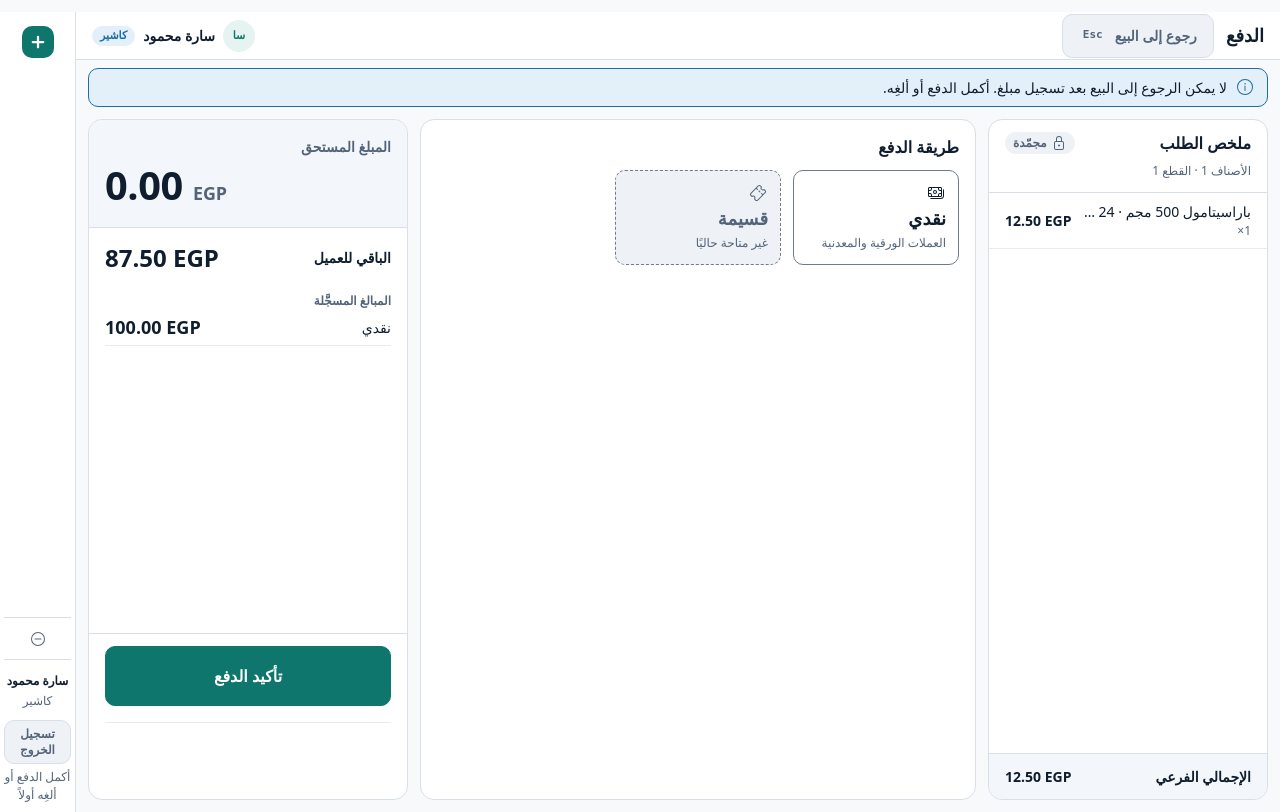
Test case: CheckoutProof — the real Checkout in the real frame › a cash payment can be taken end to end in the harness
Expected: the element with test id "payment-ledger-change" is shown, [105, 236, 391, 280]
Click the button with test id "payment-surface-confirm" at (248, 676), box [105, 646, 391, 706]
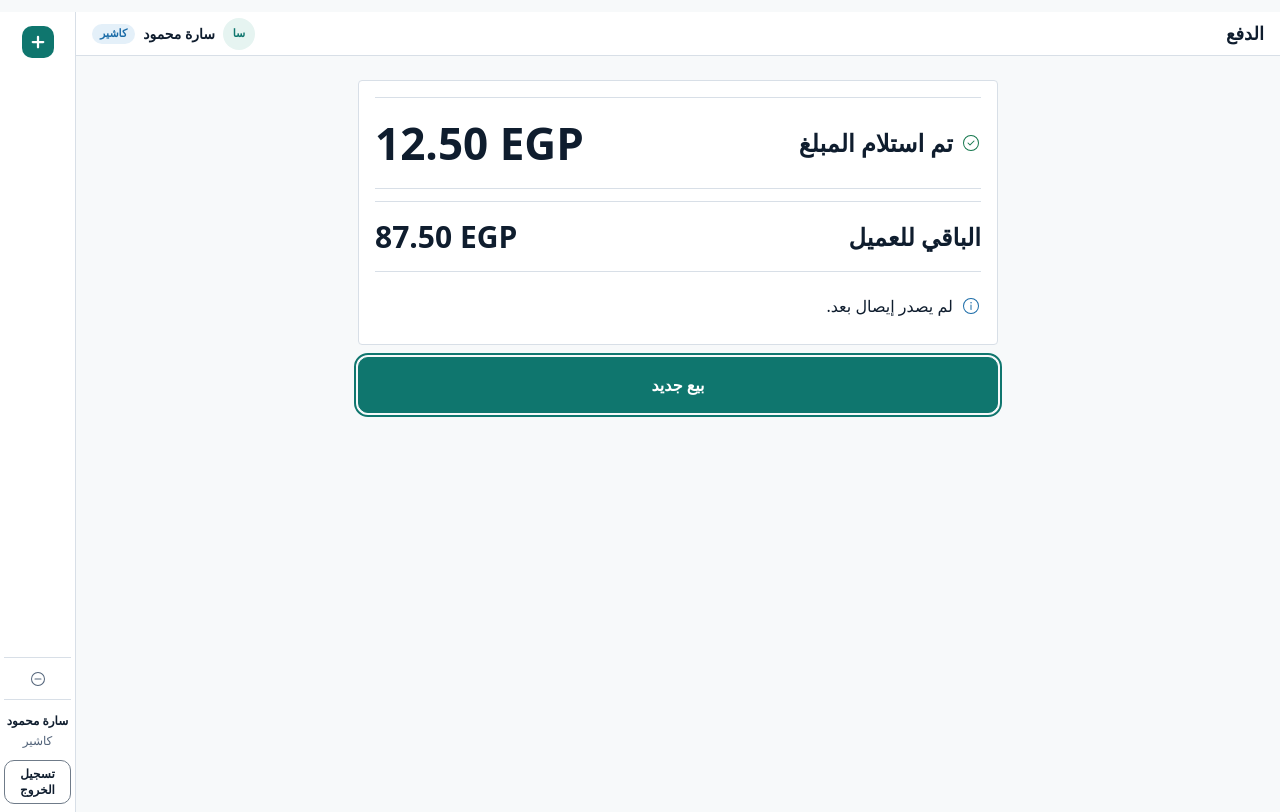
Now the element with test id "payment-surface-settled" shows "الباقي للعميل", box [849, 220, 981, 252]
